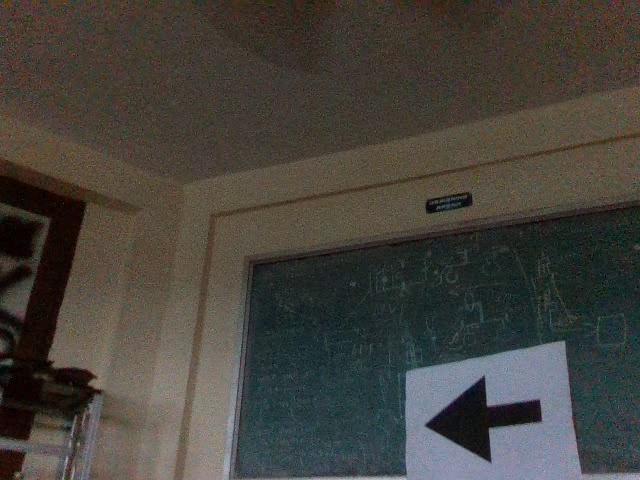Left: (417, 373, 550, 466)
